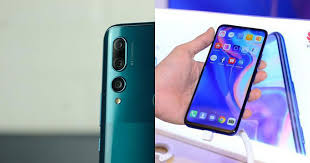huawei: (183, 22, 269, 136)
